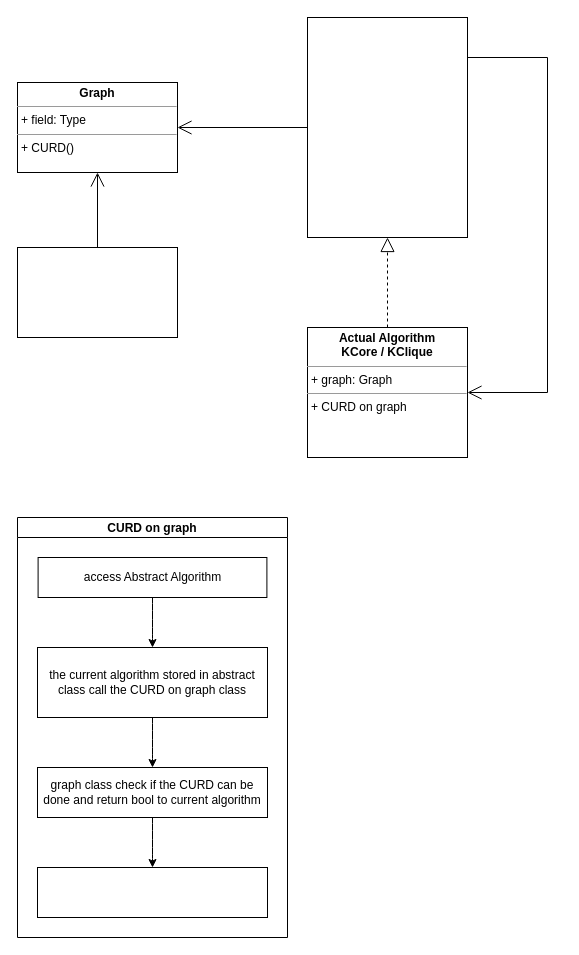
Some shapes in this 579 by 955 pixel diagram are drawn without their labels. The shapes that lost their labels are listed below. From the top down, each one's centre as x and y in pixels, then its label:
At pixel 387 127: "Abstract Algorithm + static Algorithm + method(): Type".
At pixel 97 292: "Graph Window + field: Type + method(): Type".
At pixel 152 892: "if success, current algorithm modifies its index structure".
